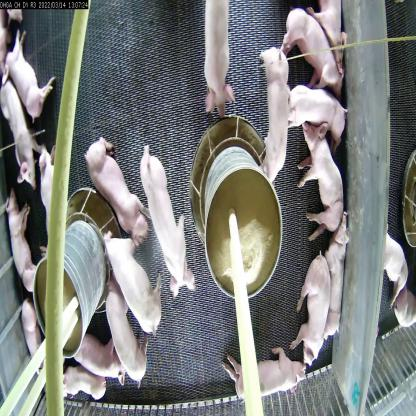Pig: (101, 220, 167, 342), (140, 157, 193, 297), (86, 143, 146, 250), (194, 0, 243, 119), (0, 185, 49, 302), (256, 38, 292, 192), (102, 275, 150, 387), (281, 6, 344, 84), (226, 346, 306, 404), (302, 122, 342, 237), (289, 67, 348, 144), (294, 256, 331, 370), (5, 27, 47, 114), (0, 72, 30, 189), (34, 129, 64, 232), (75, 336, 129, 389), (321, 220, 345, 338)
